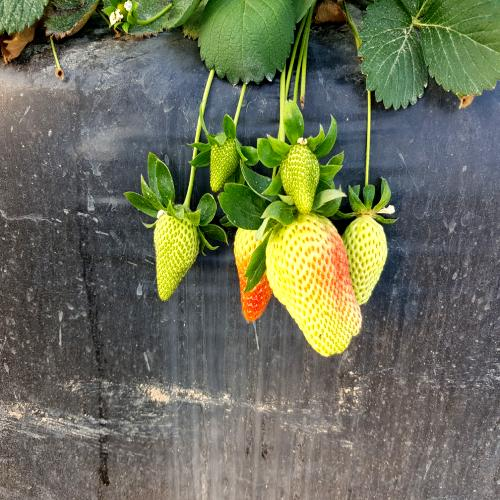partially-ripe: (266, 214, 366, 357), (226, 202, 276, 323)
